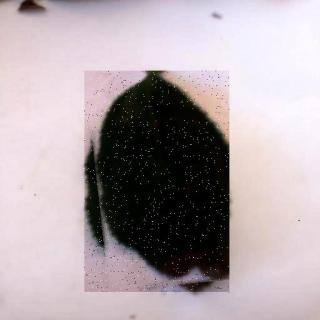Brown Blight: (86, 72, 231, 294)
